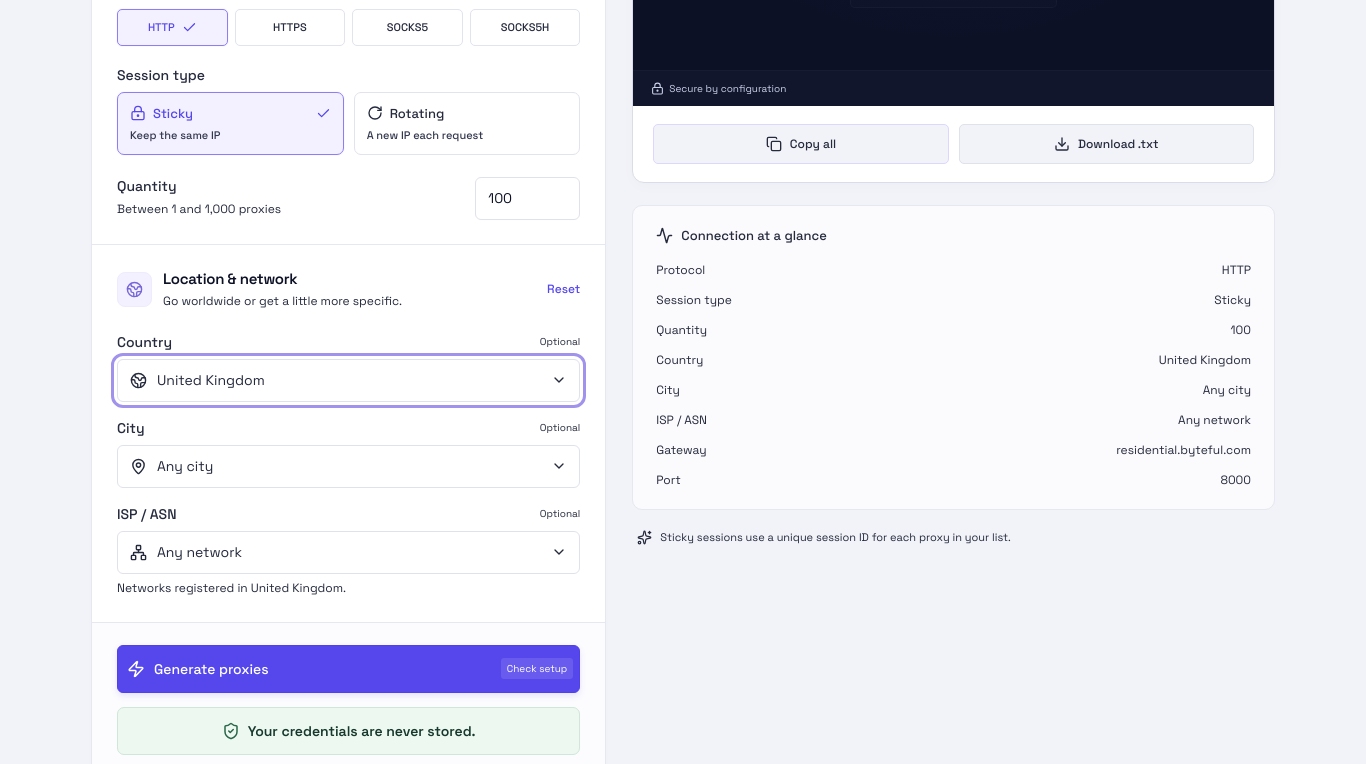
Scenario: generator user flow › clears dependent city and ASN when the country is cleared
Earlier steps of the test are not shown.
(page scrolled)
Click the button "Any city" at (185, 466), box [117, 445, 580, 488]
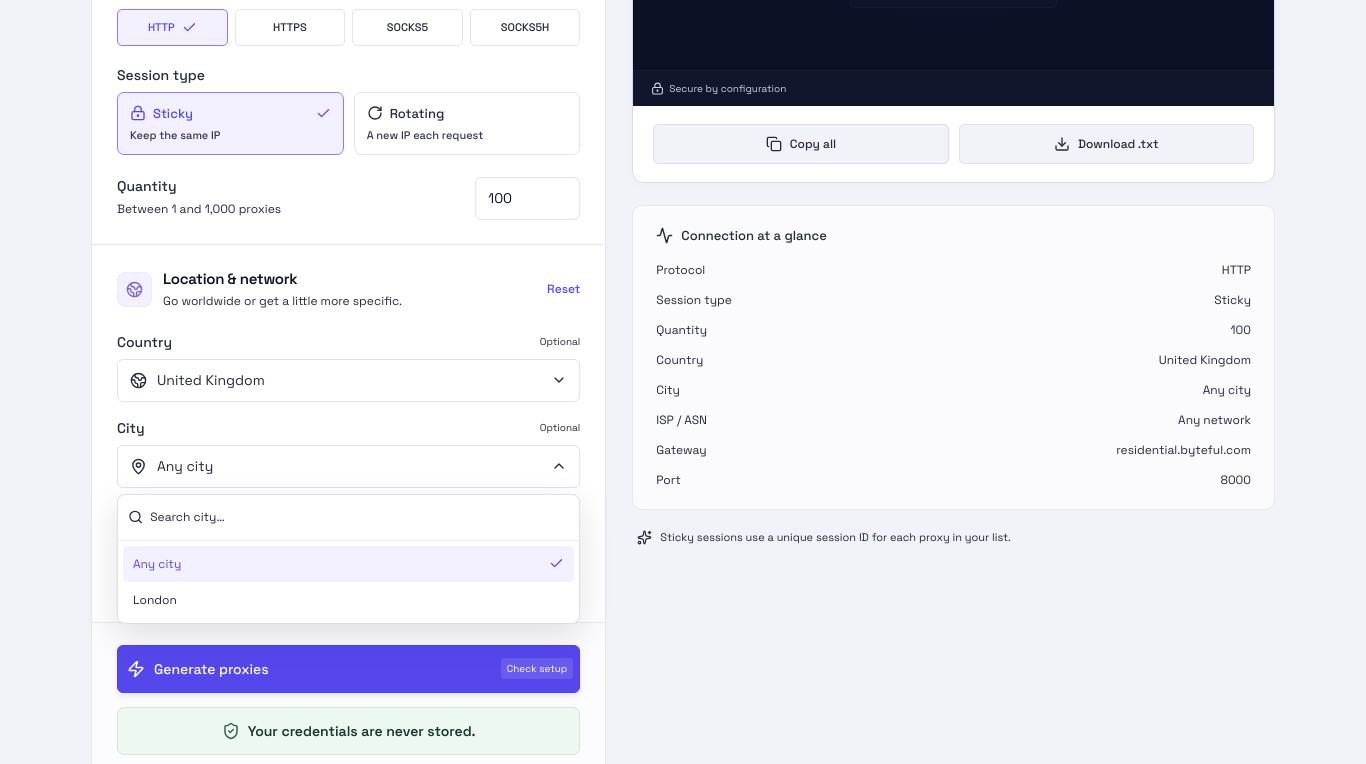
Click the option "London" at (155, 600), box [123, 582, 574, 618]
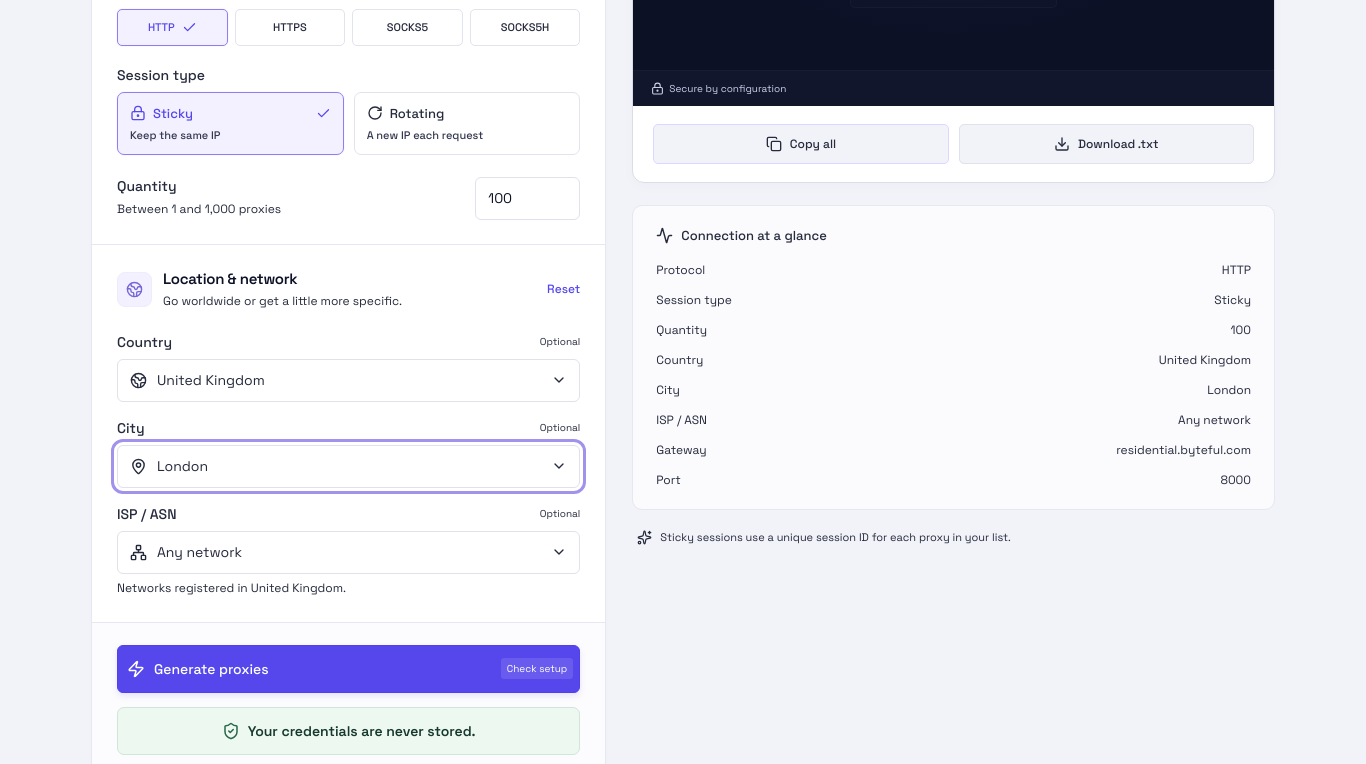
Click the button with aria-label "ISP / ASN" at (200, 552), box [117, 531, 580, 574]
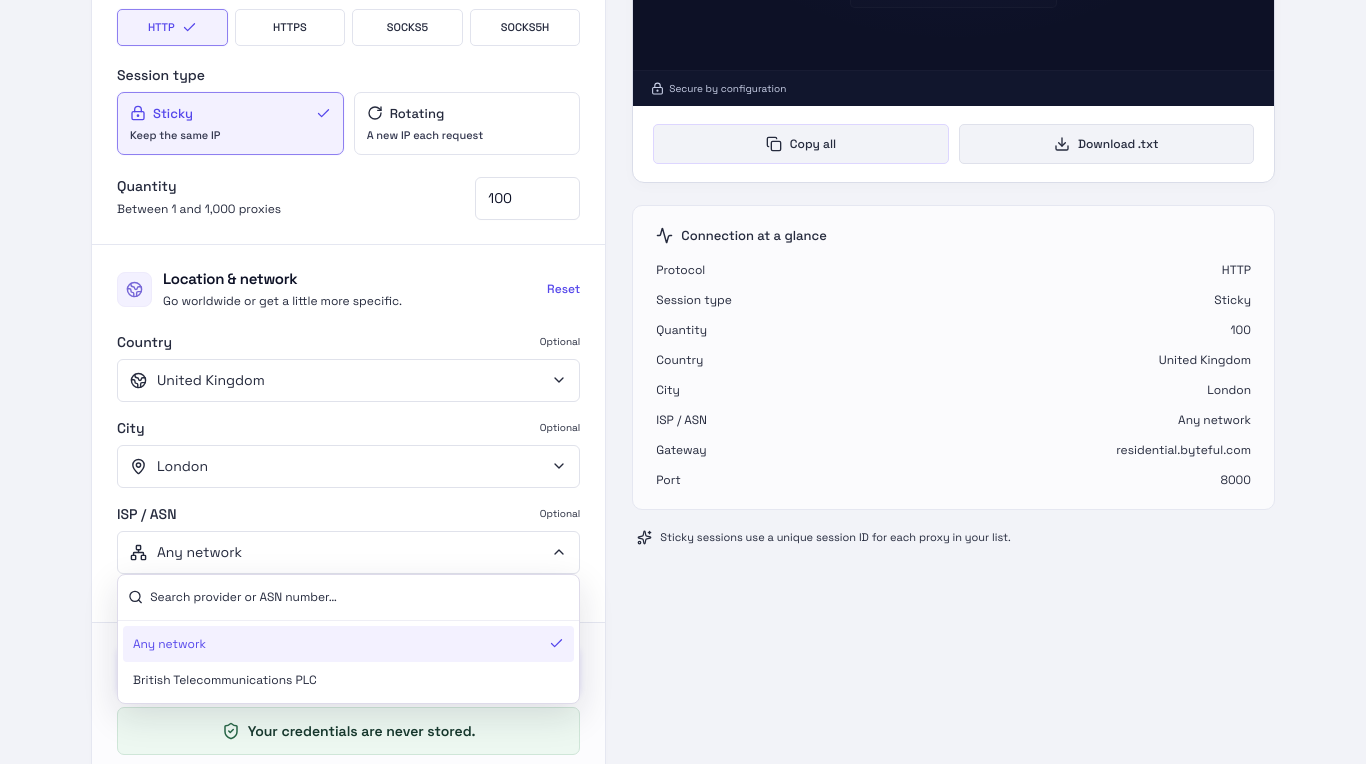
Click the option "British Telecommunications PLC" at (225, 680), box [123, 662, 574, 698]
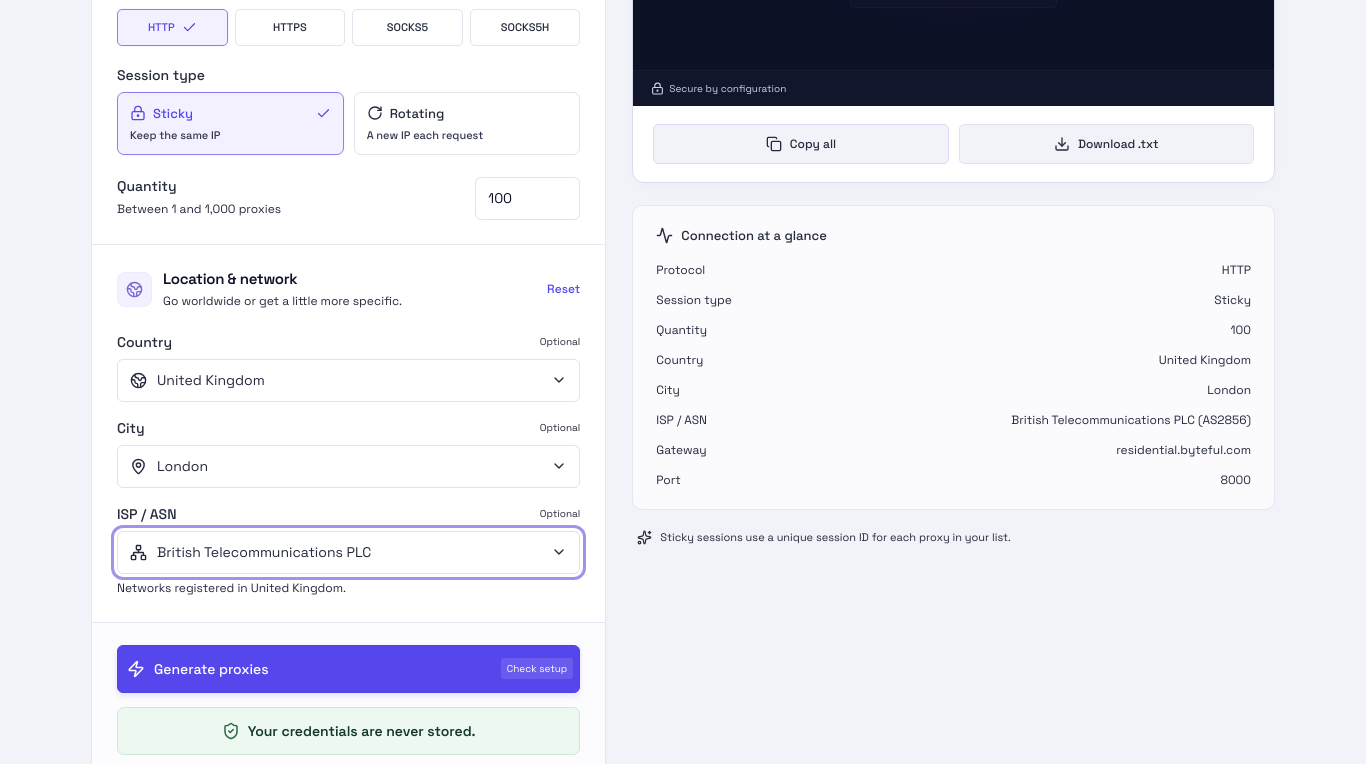
Click the button with aria-label "Country" at (211, 380), box [117, 359, 580, 402]
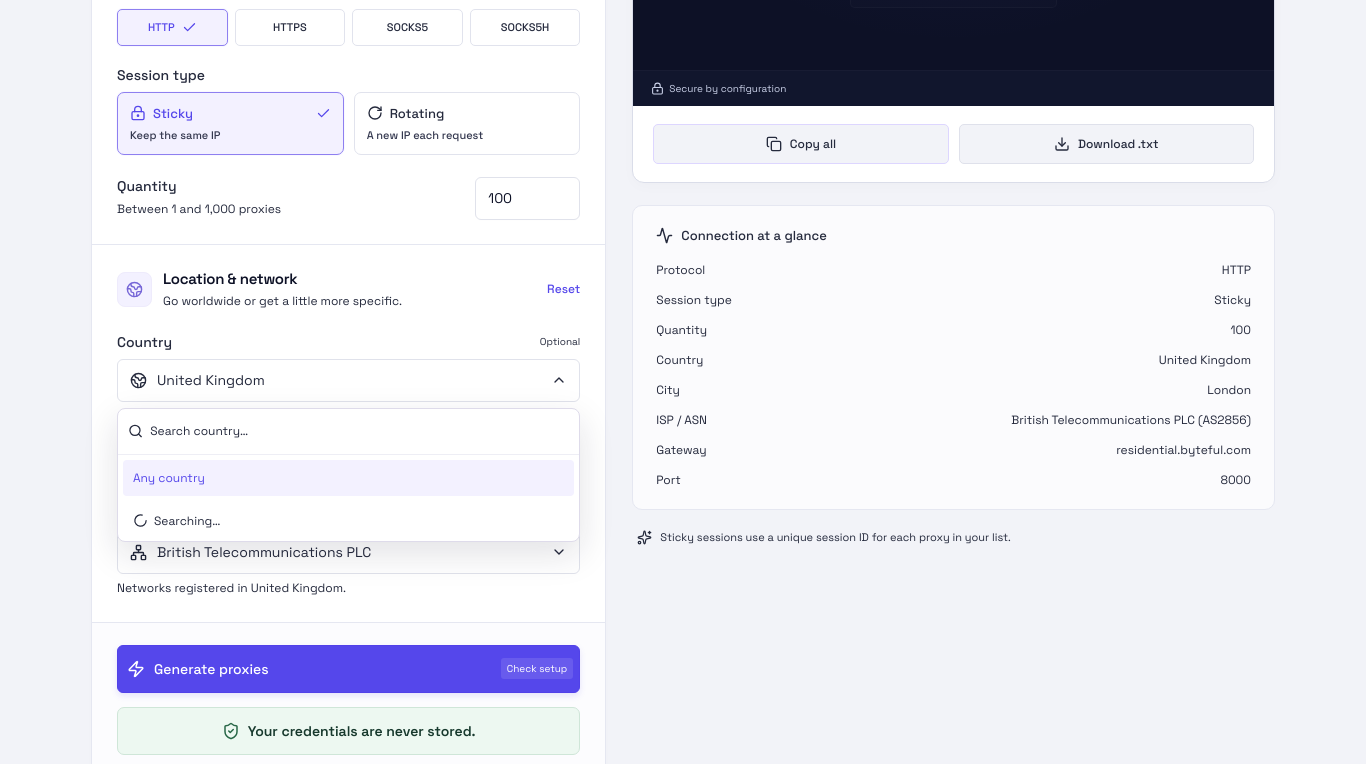
Click the option "Any country" at (169, 478), box [123, 460, 574, 496]
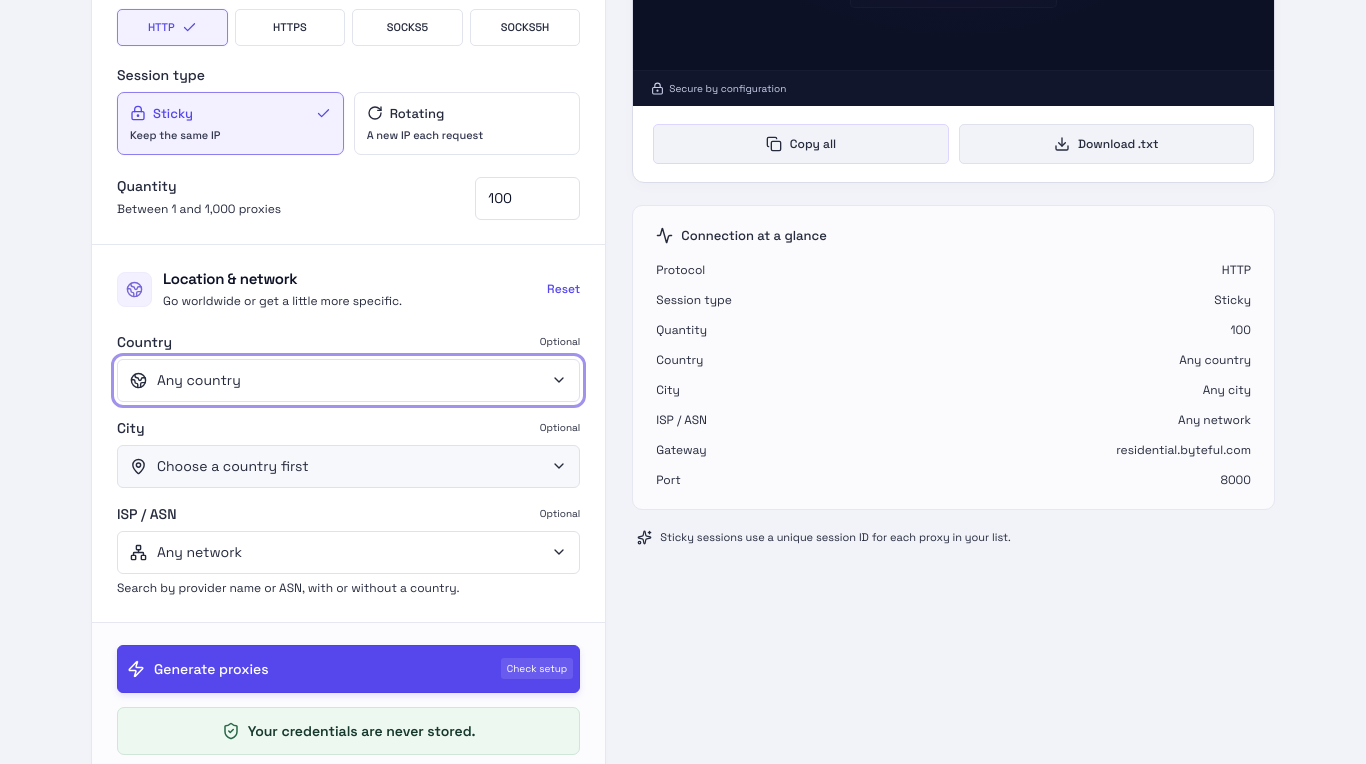
Expected: the button with aria-label "City" is disabled, [117, 445, 580, 488]
Expected: the button with aria-label "ISP / ASN" reads "Any network", [117, 531, 580, 574]
